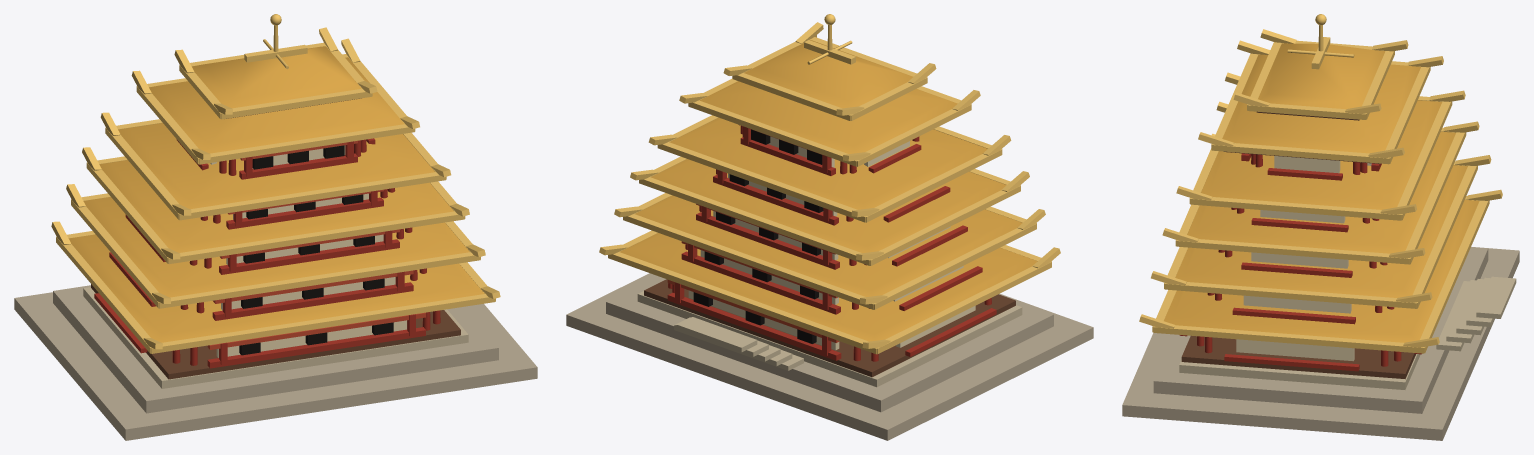
3 renders of one model, left to right at view 1: azimuth 30°, elevation 25°; view 2: azimuth 150°, elevation 25°; view 3: azimuth 270°, elevation 25°, orthographic. The views are drawn at different scales.
Visible parts, largest first — view 1: SnakeHill_Lower_Terrace, SnakeHill_Upper_Terrace, Floor_4_Yellow_Glazed_Hip_Roof, Floor_1_Yellow_Glazed_Hip_Roof, Floor_2_Yellow_Glazed_Hip_Roof, Floor_3_Yellow_Glazed_Hip_Roof, Floor_5_Yellow_Glazed_Hip_Roof, Top_Crown_Yellow_Glazed_Roof, Main_Platform_Slab, Floor_1_Yellow_Glazed_Hip_Roof_back_gold_eave, Floor_1_Shadow_Platform, Floor_2_Yellow_Glazed_Hip_Roof_back_gold_eave (+24 smaller); view 2: SnakeHill_Lower_Terrace, SnakeHill_Upper_Terrace, Floor_4_Yellow_Glazed_Hip_Roof, Floor_1_Yellow_Glazed_Hip_Roof, Floor_2_Yellow_Glazed_Hip_Roof, Floor_3_Yellow_Glazed_Hip_Roof, Floor_5_Yellow_Glazed_Hip_Roof, Top_Crown_Yellow_Glazed_Roof, Floor_1_Shadow_Platform, Main_Platform_Slab, Floor_1_Yellow_Glazed_Hip_Roof_front_gold_eave, Floor_2_Yellow_Glazed_Hip_Roof_front_gold_eave (+23 smaller); view 3: SnakeHill_Lower_Terrace, SnakeHill_Upper_Terrace, Floor_4_Yellow_Glazed_Hip_Roof, Floor_1_Yellow_Glazed_Hip_Roof, Floor_2_Yellow_Glazed_Hip_Roof, Floor_5_Yellow_Glazed_Hip_Roof, Floor_3_Yellow_Glazed_Hip_Roof, Top_Crown_Yellow_Glazed_Roof, Floor_1_Shadow_Platform, Main_Platform_Slab, Floor_1_Yellow_Glazed_Hip_Roof_right_gold_eave, Floor_2_Yellow_Glazed_Hip_Roof_right_gold_eave (+28 smaller).
Part boxes in pixels (x1,y1,x2,y2): SnakeHill_Lower_Terrace: [14, 292, 537, 440]; SnakeHill_Upper_Terrace: [53, 285, 498, 413]; Floor_4_Yellow_Glazed_Hip_Roof: [118, 123, 434, 209]; Floor_1_Yellow_Glazed_Hip_Roof: [68, 234, 484, 342]; Floor_2_Yellow_Glazed_Hip_Roof: [83, 197, 469, 297]; Floor_3_Yellow_Glazed_Hip_Roof: [99, 160, 453, 252]; Floor_5_Yellow_Glazed_Hip_Roof: [149, 57, 404, 153]; Top_Crown_Yellow_Glazed_Roof: [192, 46, 361, 108]; Main_Platform_Slab: [83, 287, 468, 388]; Floor_1_Yellow_Glazed_Hip_Roof_back_gold_eave: [151, 294, 495, 353]; Floor_1_Shadow_Platform: [91, 284, 460, 379]; Floor_2_Yellow_Glazed_Hip_Roof_back_gold_eave: [159, 252, 480, 308]; SnakeHill_Lower_Terrace: [566, 273, 1093, 440]; SnakeHill_Upper_Terrace: [606, 276, 1053, 412]; Floor_4_Yellow_Glazed_Hip_Roof: [670, 117, 987, 209]; Floor_1_Yellow_Glazed_Hip_Roof: [620, 233, 1037, 341]; Floor_2_Yellow_Glazed_Hip_Roof: [635, 195, 1022, 296]; Floor_3_Yellow_Glazed_Hip_Roof: [651, 159, 1006, 253]; Floor_5_Yellow_Glazed_Hip_Roof: [699, 81, 957, 153]; Top_Crown_Yellow_Glazed_Roof: [744, 40, 913, 108]; Floor_1_Shadow_Platform: [644, 279, 1015, 377]; Main_Platform_Slab: [637, 291, 1022, 387]; Floor_1_Yellow_Glazed_Hip_Roof_front_gold_eave: [608, 252, 878, 354]; Floor_2_Yellow_Glazed_Hip_Roof_front_gold_eave: [623, 214, 874, 309]; SnakeHill_Lower_Terrace: [1122, 247, 1519, 440]; SnakeHill_Upper_Terrace: [1153, 247, 1488, 413]; Floor_4_Yellow_Glazed_Hip_Roof: [1201, 100, 1442, 209]; Floor_1_Yellow_Glazed_Hip_Roof: [1164, 200, 1479, 342]; Floor_2_Yellow_Glazed_Hip_Roof: [1175, 165, 1467, 297]; Floor_5_Yellow_Glazed_Hip_Roof: [1222, 54, 1420, 153]; Floor_3_Yellow_Glazed_Hip_Roof: [1187, 131, 1455, 253]; Top_Crown_Yellow_Glazed_Roof: [1258, 43, 1385, 109]; Floor_1_Shadow_Platform: [1181, 335, 1415, 379]; Main_Platform_Slab: [1179, 354, 1420, 389]; Floor_1_Yellow_Glazed_Hip_Roof_right_gold_eave: [1153, 325, 1424, 353]; Floor_2_Yellow_Glazed_Hip_Roof_right_gold_eave: [1164, 282, 1416, 308].
Bounding box in the file's own units: 10.07 × 7.48 × 8.3.
